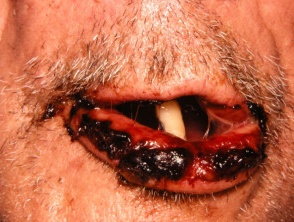SJS-TEN: (29, 63, 279, 206)
